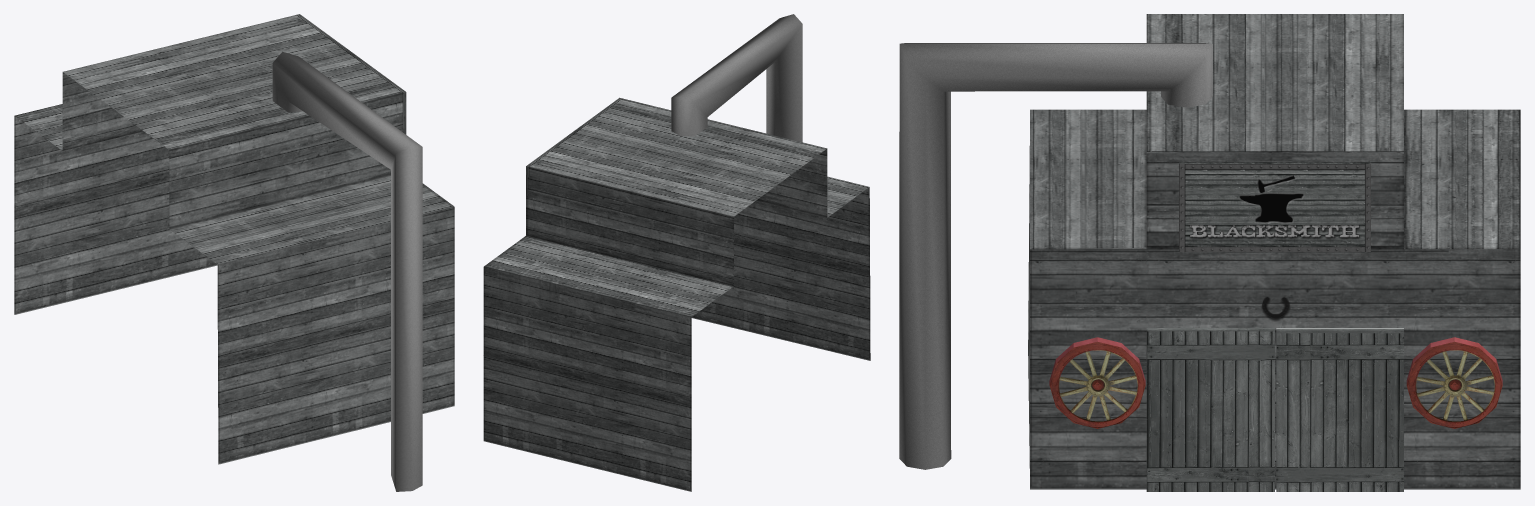
File: bld_blacksmith.fbx
3 views of the same model, side by side, from view 1: azimuth 30°, elevation 25°; view 2: azimuth 150°, elevation 25°; view 3: azimuth 270°, elevation 25° (orthographic). The views are drawn at different scales.
Visible parts, largest first — view 1: polySurface37, polySurface27; view 2: polySurface37, polySurface27; view 3: polySurface37, doors, polySurface27, blacksmith_Sign.
Part boxes in pixels (<box>): polySurface37: <box>14,14,454,464</box>; polySurface27: <box>272,51,422,491</box>; polySurface37: <box>483,97,870,491</box>; polySurface27: <box>671,14,802,142</box>; polySurface37: <box>1028,14,1520,489</box>; doors: <box>1146,328,1403,491</box>; polySurface27: <box>899,43,1212,469</box>; blacksmith_Sign: <box>1049,162,1502,428</box>.
Bounding box in the file's own units: 851 × 1144 × 1550.
